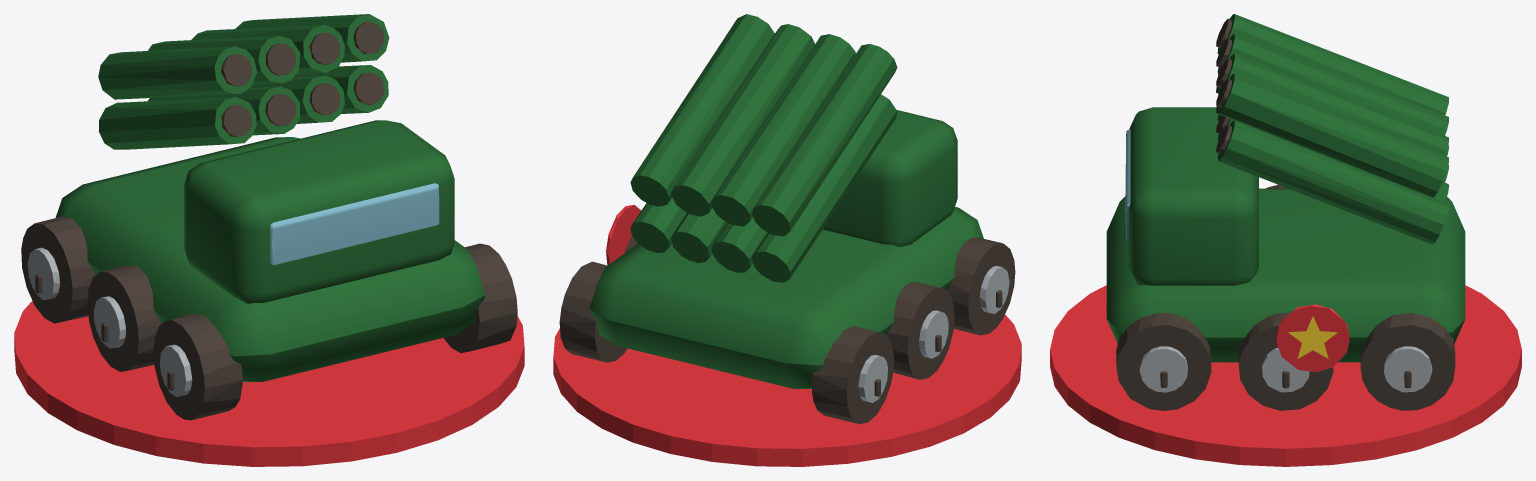
Rendered from vietnam_artillery_lod0.glb.
3 views of the same model, side by side, from view 1: azimuth 30°, elevation 25°; view 2: azimuth 150°, elevation 25°; view 3: azimuth 270°, elevation 25° (orthographic). The views are drawn at different scales.
Visible parts, largest first — view 1: body_hull, base_pedestal; view 2: body_hull, base_pedestal; view 3: body_hull, base_pedestal.
Boxes of the visible parts, x1,y1,x2,y2 form: body_hull: (21,14,517,420); base_pedestal: (14,301,524,466); body_hull: (559,14,1015,424); base_pedestal: (553,314,1021,466); body_hull: (1106,14,1465,410); base_pedestal: (1050,285,1521,466).
Size of the model in its own units: 0.78 by 0.5862 by 0.78.
